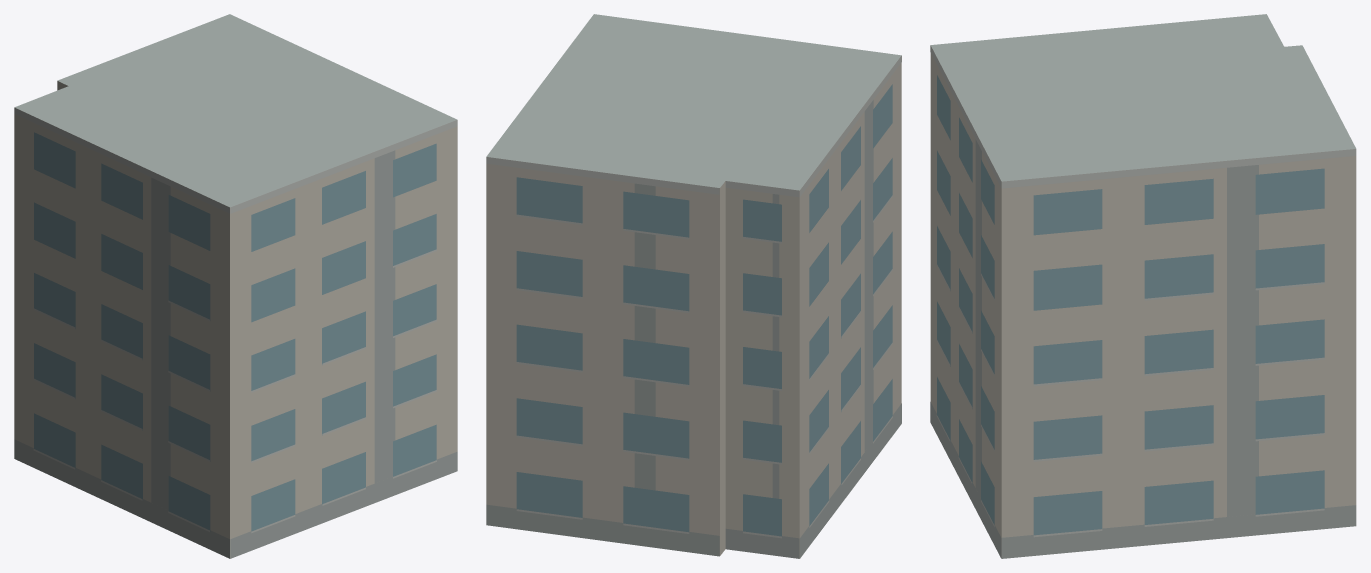
Rendered from survey-upis-32632382.glb.
3 renders of one model, left to right at view 1: azimuth 30°, elevation 25°; view 2: azimuth 150°, elevation 25°; view 3: azimuth 270°, elevation 25°, orthographic. The views are drawn at different scales.
Visible parts, largest first — view 1: survey-upis-32632382.tmp; view 2: survey-upis-32632382.tmp; view 3: survey-upis-32632382.tmp.
Part boxes in pixels (x1=…): survey-upis-32632382.tmp: x1=14, y1=14, x2=457, y2=558; survey-upis-32632382.tmp: x1=486, y1=14, x2=901, y2=558; survey-upis-32632382.tmp: x1=930, y1=14, x2=1356, y2=558.
Bounding box in the file's own units: 12.59 × 13.2 × 13.52.
